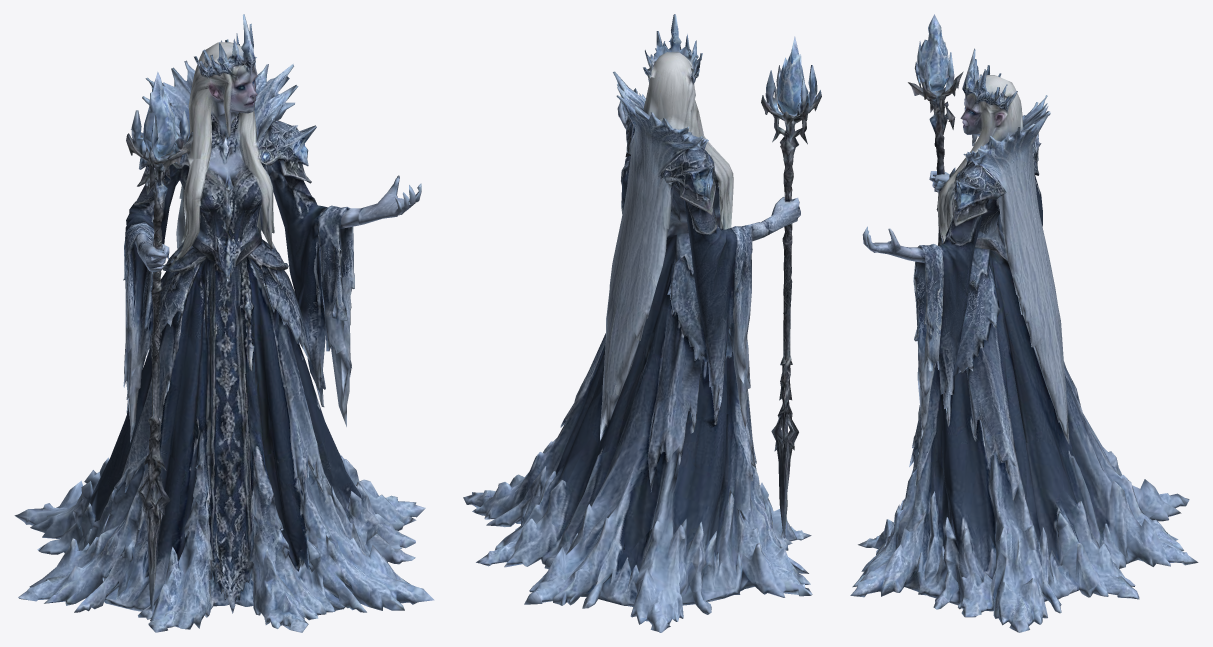
The model's file is ice_ice-queen.glb.
3 views of the same model, side by side, from view 1: azimuth 30°, elevation 25°; view 2: azimuth 150°, elevation 25°; view 3: azimuth 270°, elevation 25° (orthographic). The views are drawn at different scales.
Visible parts, largest first — view 1: tripo_node_7209a02f-a210-47e2-ab2e-cb77c5d4414a; view 2: tripo_node_7209a02f-a210-47e2-ab2e-cb77c5d4414a; view 3: tripo_node_7209a02f-a210-47e2-ab2e-cb77c5d4414a.
Part boxes in pixels (x1,y1,x2,y2): tripo_node_7209a02f-a210-47e2-ab2e-cb77c5d4414a: (14, 14, 434, 632); tripo_node_7209a02f-a210-47e2-ab2e-cb77c5d4414a: (463, 14, 821, 632); tripo_node_7209a02f-a210-47e2-ab2e-cb77c5d4414a: (850, 14, 1198, 632).
Size of the model in its own units: 0.71 by 0.9781 by 0.6163.
Materials: 1 (1 with a texture image).
